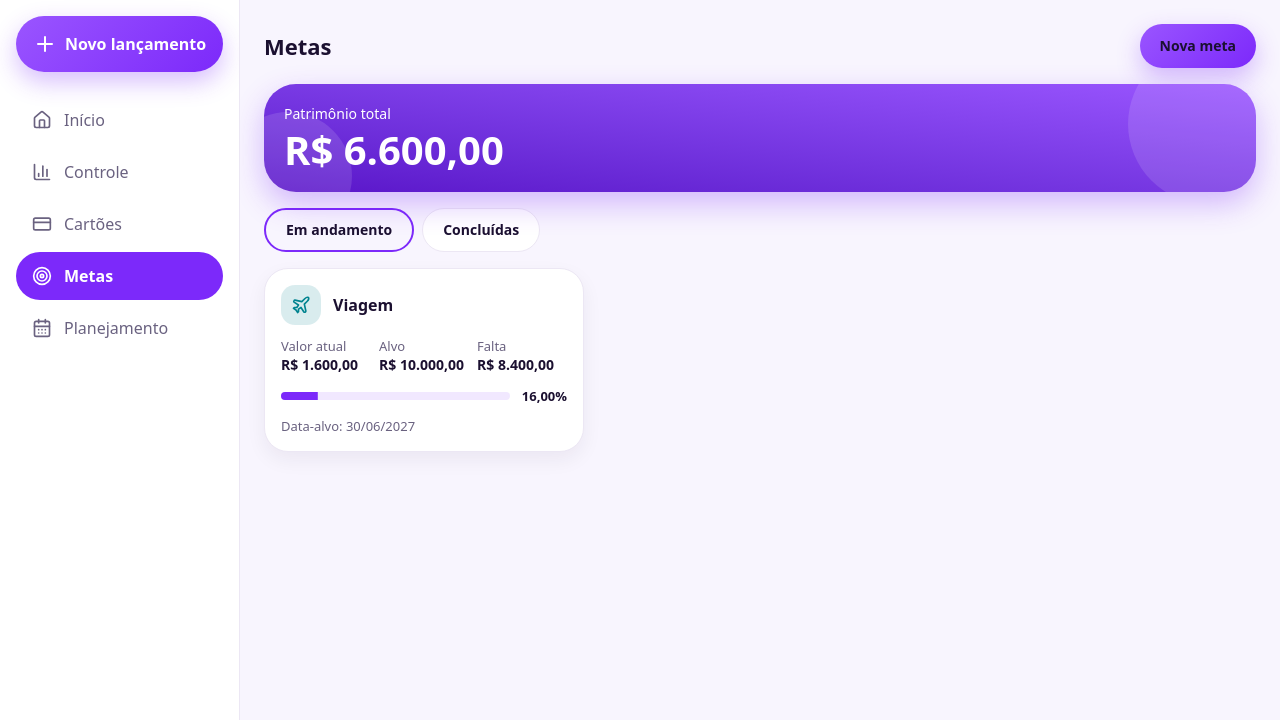
Test: Metas: estado vazio e criação (CA-6.09, CA-0.07) › o botão Nova meta do topo abre o formulário de criação
Check: the text "Viagem" is shown, box [333,294,393,316]
Step 1. Click the button "Nova meta" → (1198, 46), box [1140,24,1256,68]
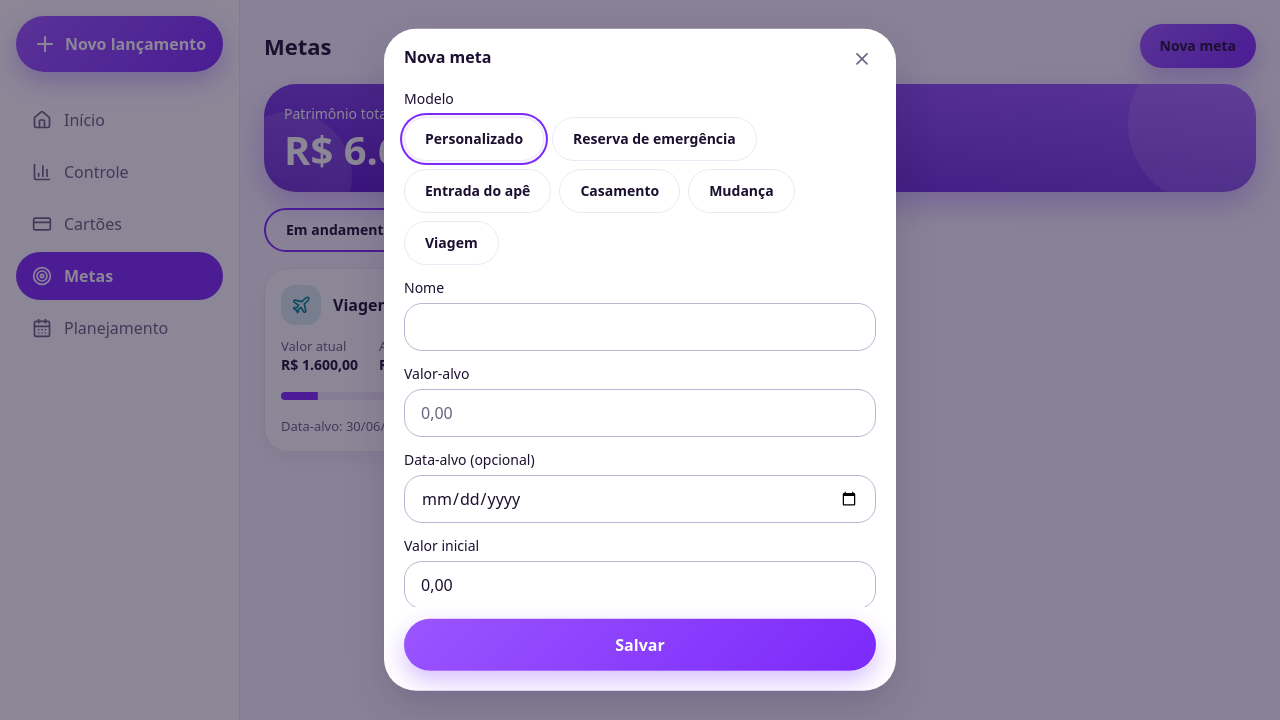
Check: the dialog "Nova meta" is shown, box [384,29,896,691]
